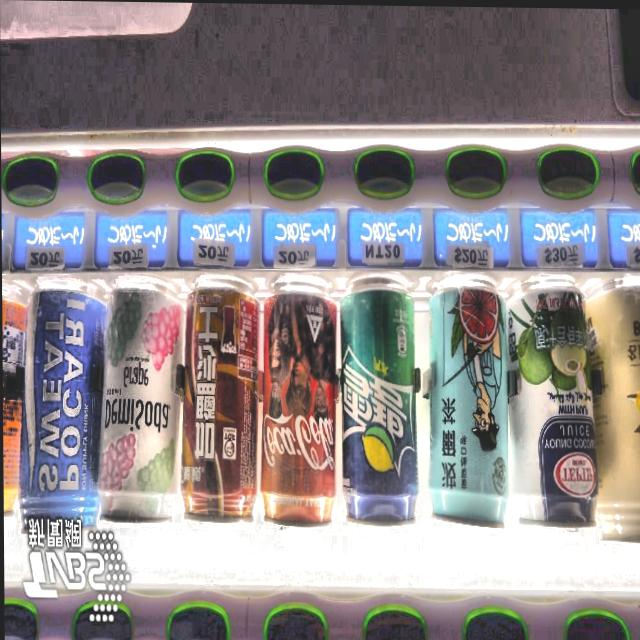can: (15, 276, 108, 543), (507, 270, 600, 534), (94, 279, 185, 534), (425, 274, 511, 535), (176, 276, 261, 529), (338, 273, 420, 533), (257, 276, 341, 529), (581, 269, 640, 551)
